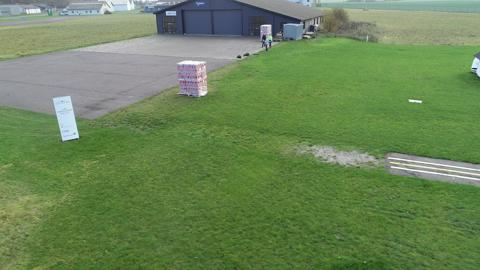RockwoolPallet: (260, 24, 273, 43)
